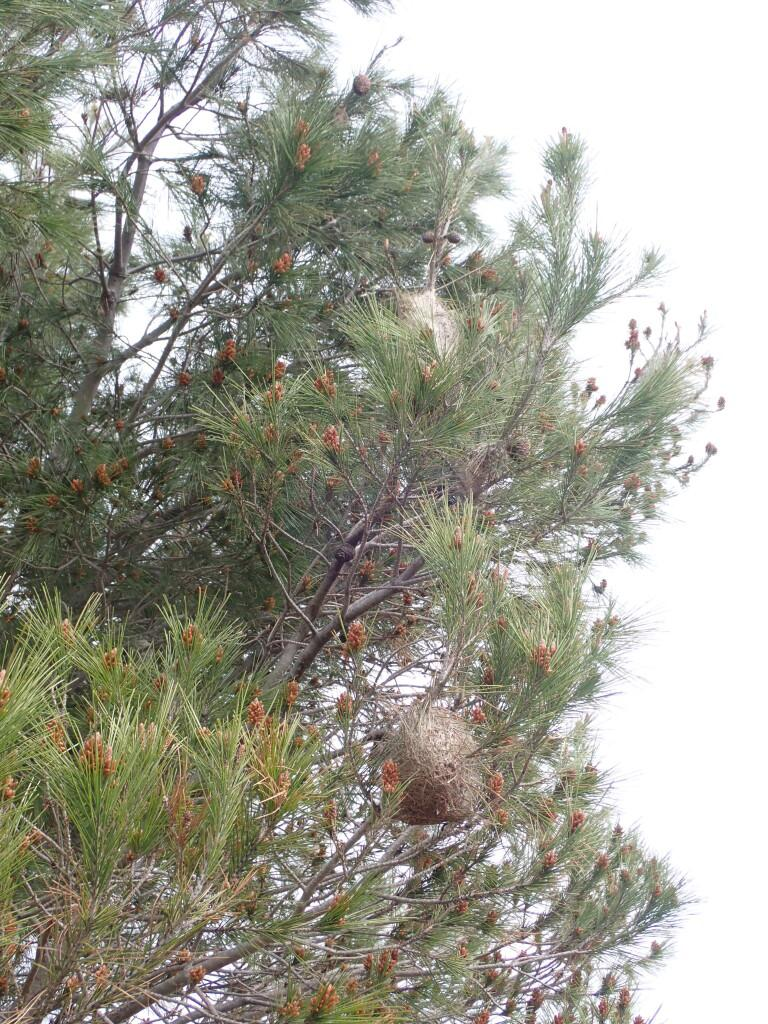thaumatopoea pityocampa jajno gnijezdo: (382, 698, 488, 821), (389, 276, 470, 372)
